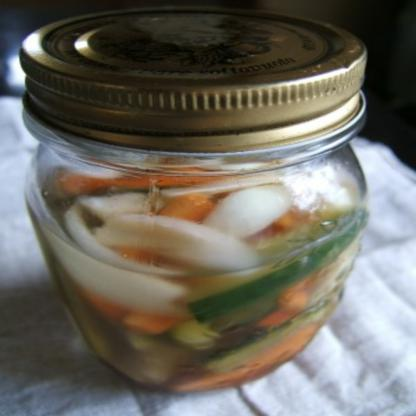Cucumber: (31, 170, 372, 384), (184, 205, 370, 324), (184, 205, 369, 324)
